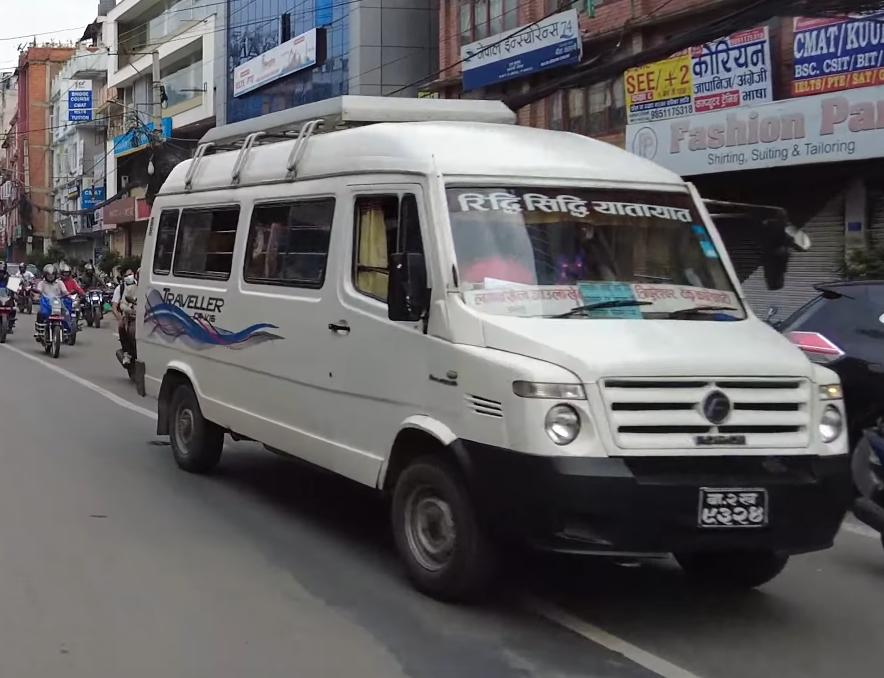bike: (29, 290, 71, 367), (0, 287, 19, 346), (82, 285, 107, 328)
micro_bus: (116, 84, 856, 625)
